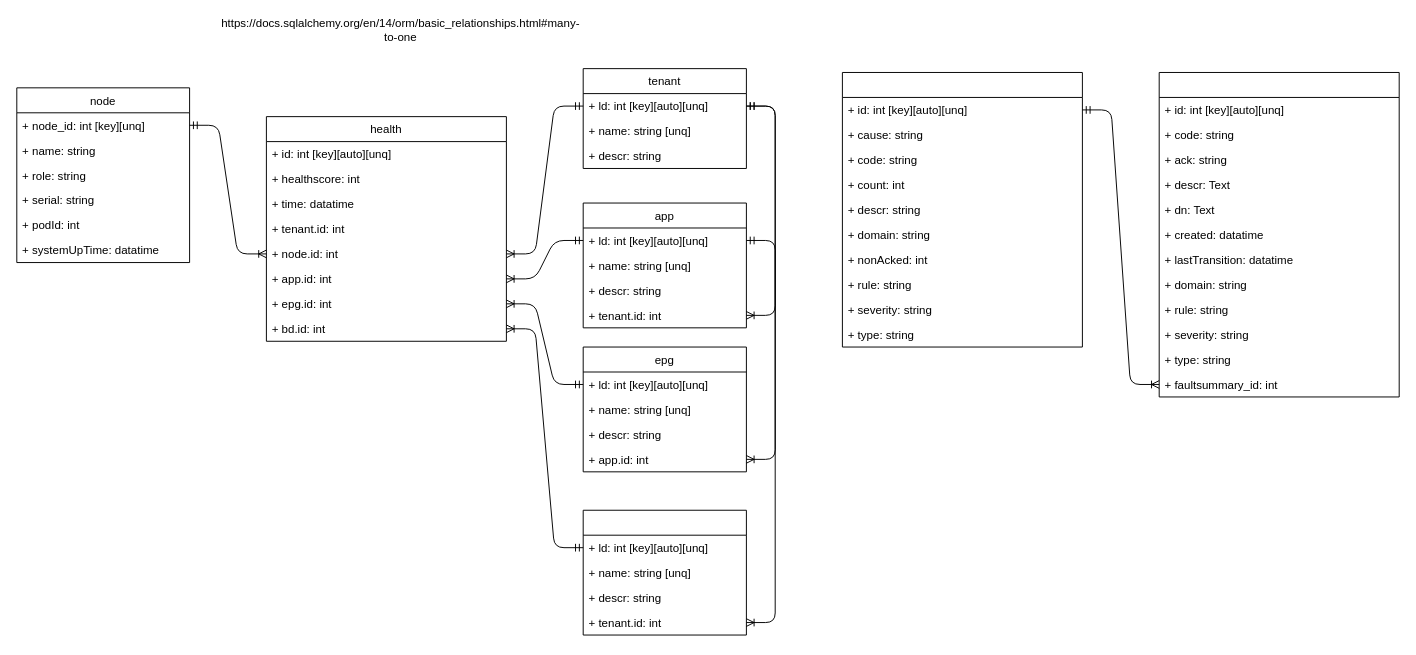
This 1416x655 diagram has some shape labels left out. The box of each missing label's shape, as (x1, y1, x2, y2) in pixels:
bd: (582, 509, 746, 635)
faultdetail: (1158, 72, 1399, 397)
faultsummary: (841, 72, 1082, 347)
